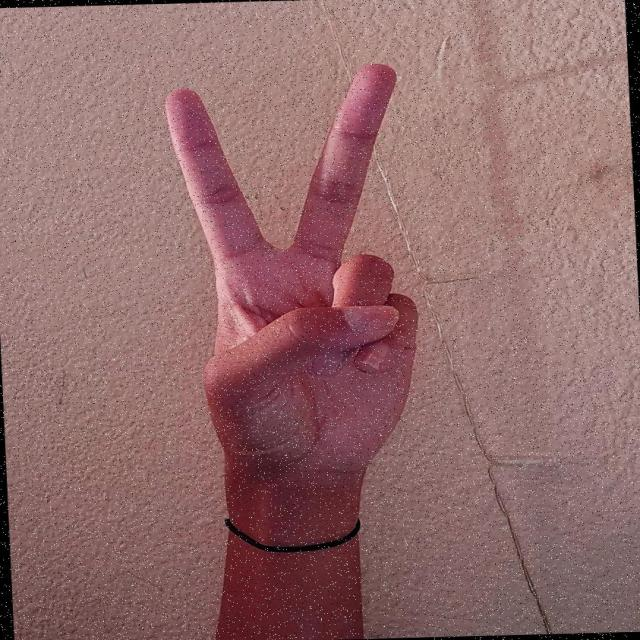V: (157, 60, 430, 483)
